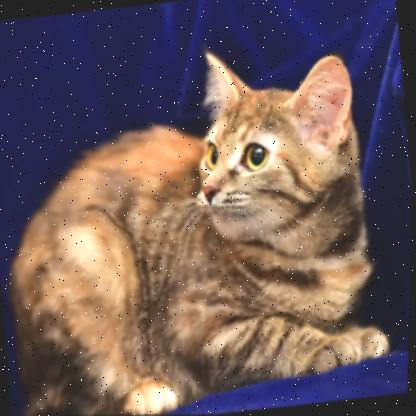cat: (0, 52, 391, 398)
